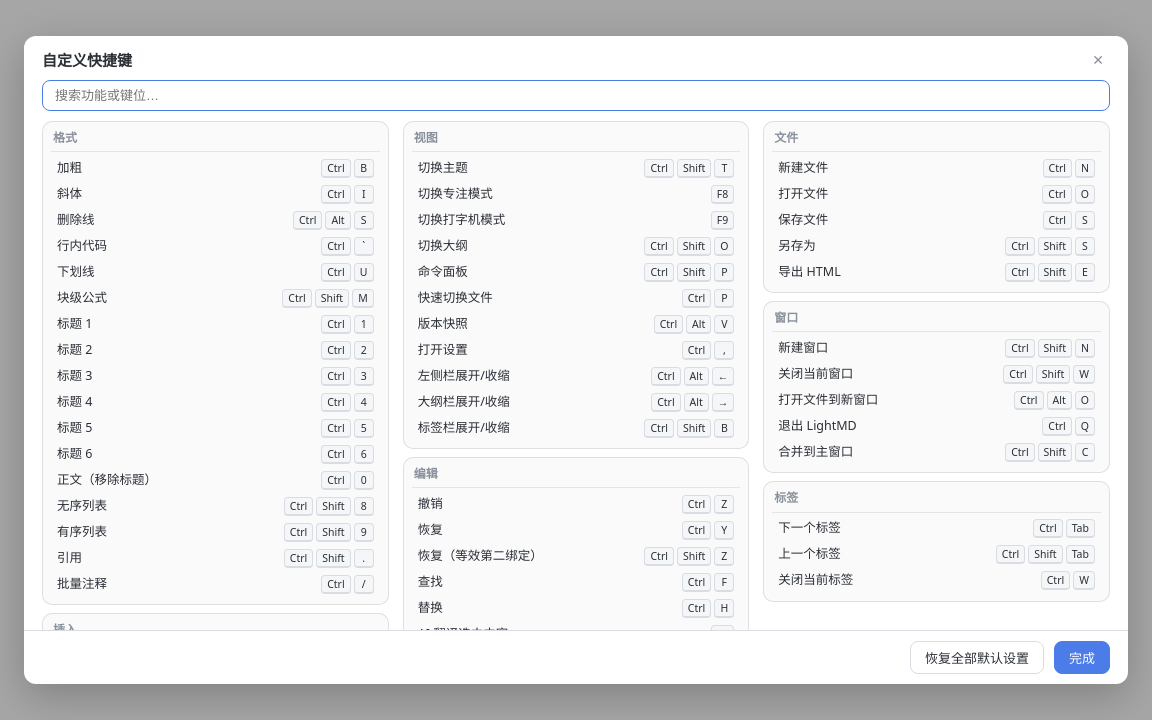
it: v0.9.0 ShortcutSettingsDialog：录制与冲突（A3/A4） › 冲突：绑定到其他条目键位显示占用提示且不写入（含精确文案与保持录制态）
Expected: the text "新建文件" is shown, [778,159,828,176]
Click the button "新建文件 Ctrl N": (803, 167) [772,155,1101,181]
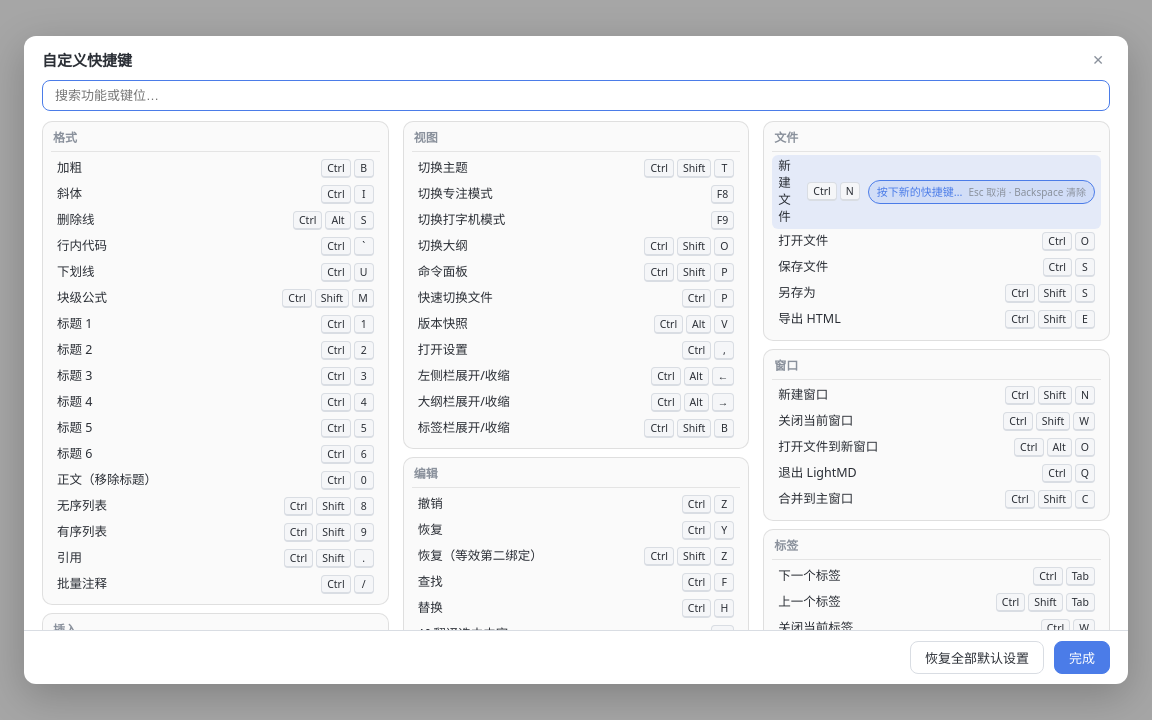
Press s
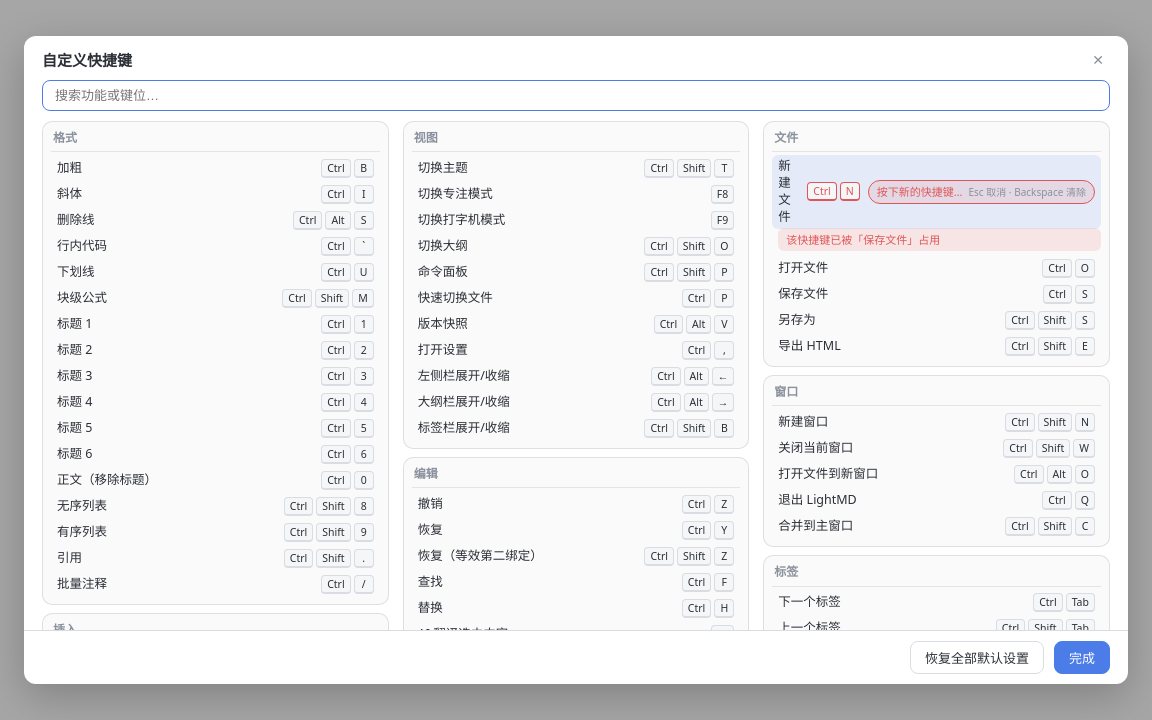
Result: the element with class "shortcut-settings-recording-pill" is shown at [868,180,1095,204]
Result: the number of messages with class "shortcut-settings-error" is 1 at [778,228,1101,251]
Result: the message with class "shortcut-settings-error" reads "该快捷键已被「保存文件」占用" at [786,232,940,247]
